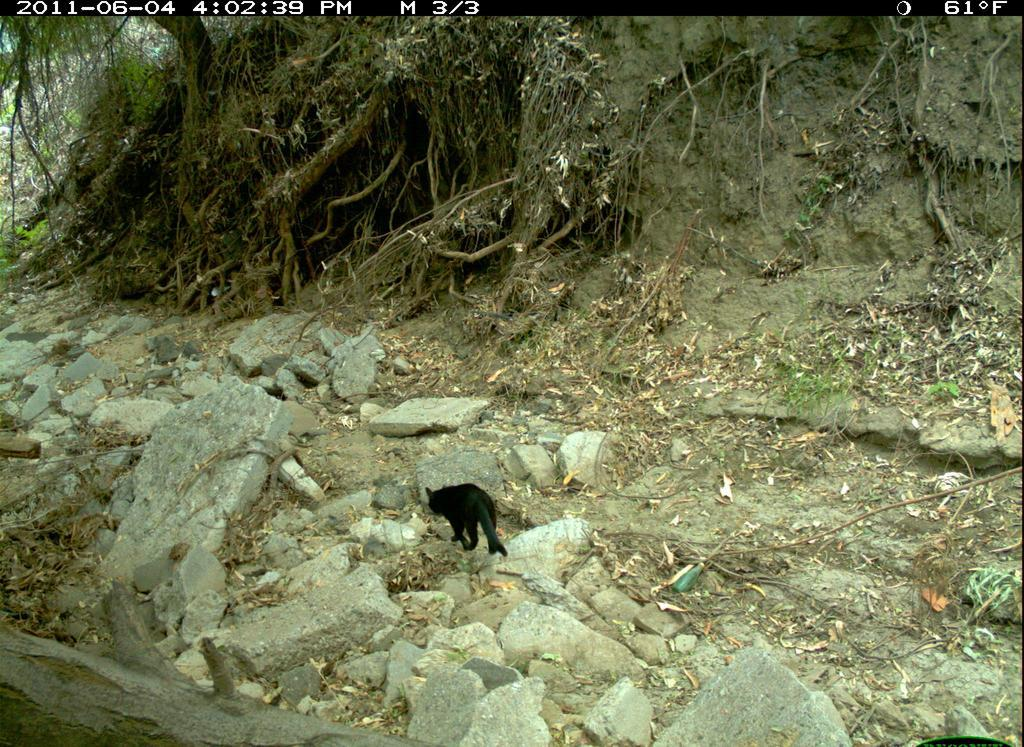cat: (418, 474, 525, 566)
